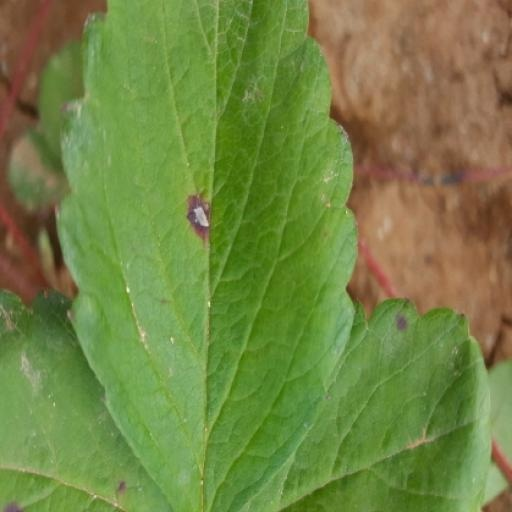Leaf Spot: (152, 0, 457, 511), (19, 0, 268, 215), (337, 0, 511, 226)
